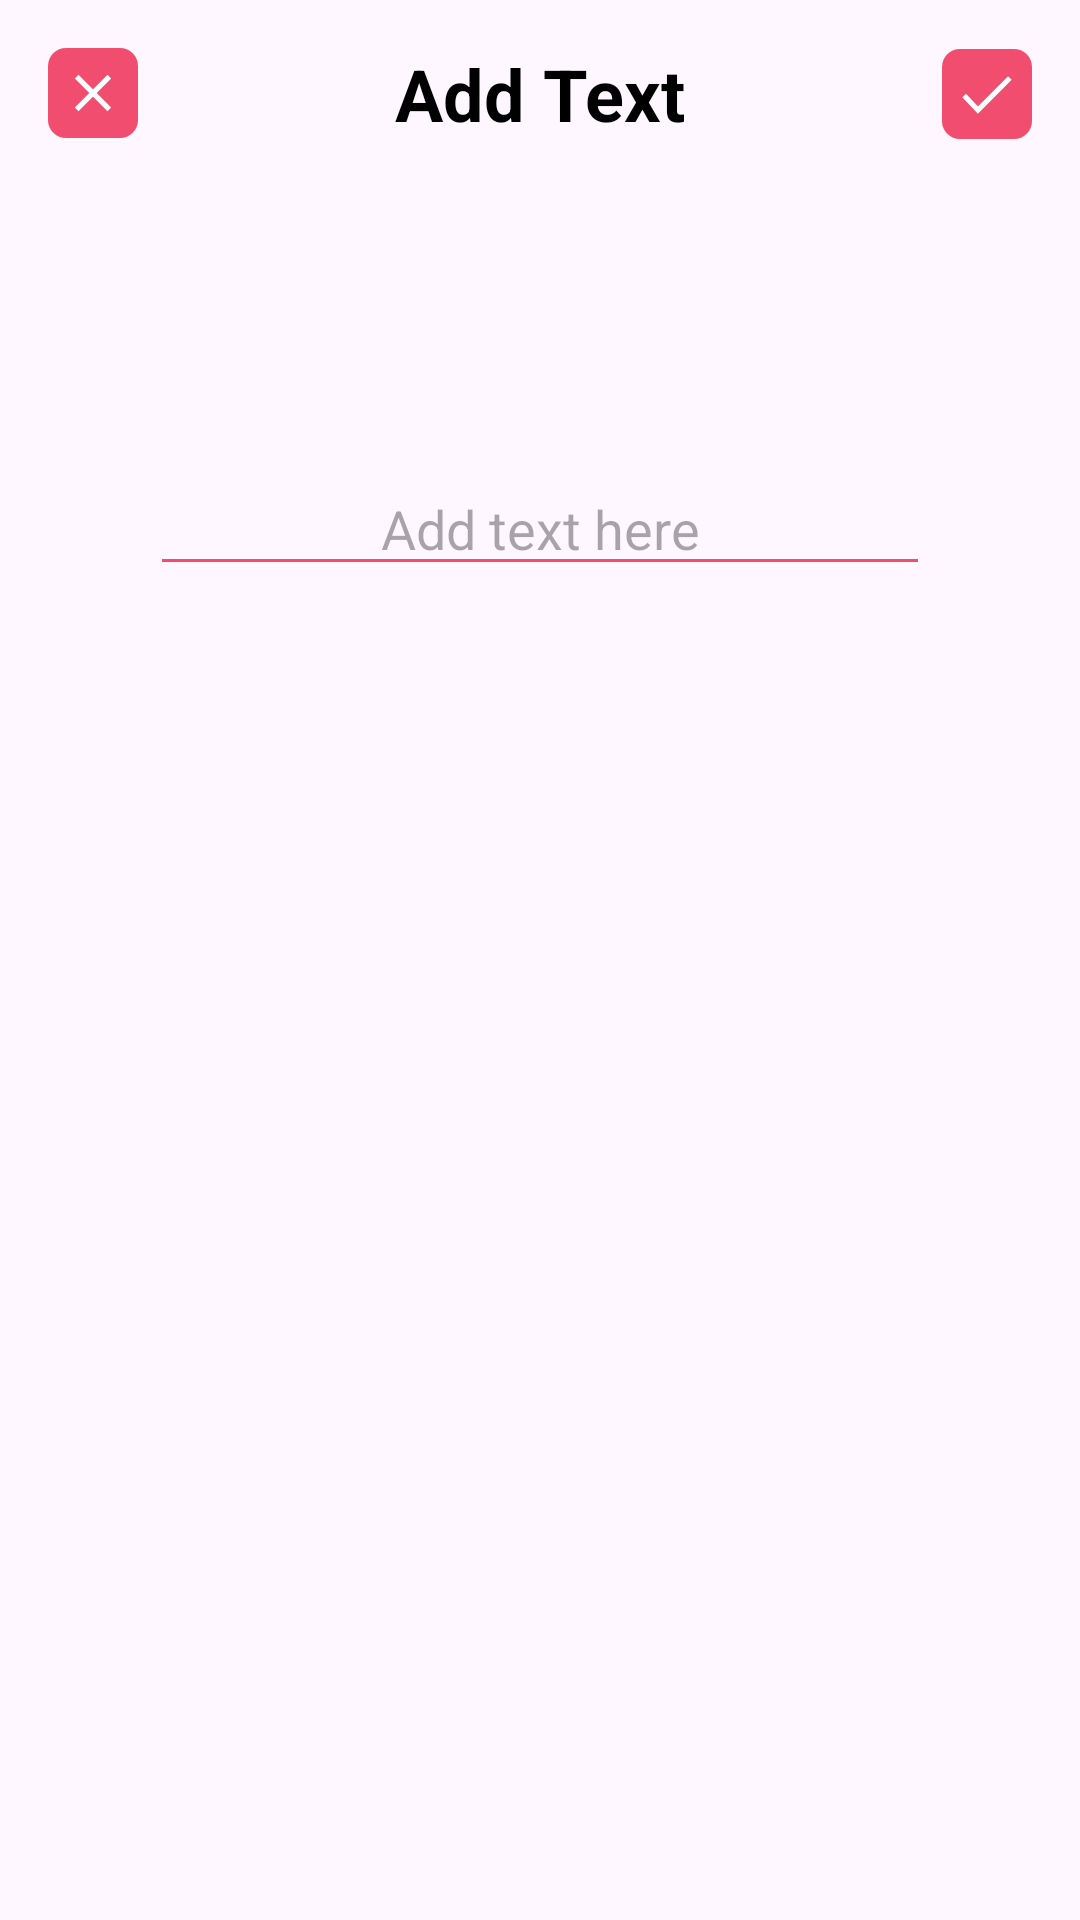

Icons on this 1080 x 1920 Android screen, each with the point to tap as (x,y):
crosstext: (93,93)
ticktext: (987,94)
